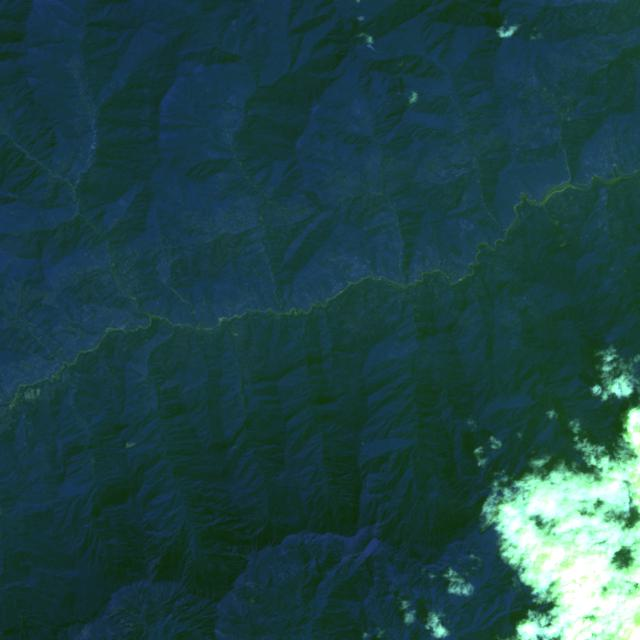landslides: (217, 562, 238, 578), (299, 420, 314, 441), (125, 438, 145, 448), (311, 165, 332, 174), (304, 289, 315, 305), (230, 441, 245, 452), (214, 629, 232, 637), (209, 151, 227, 159), (81, 627, 92, 640), (0, 98, 7, 117)
